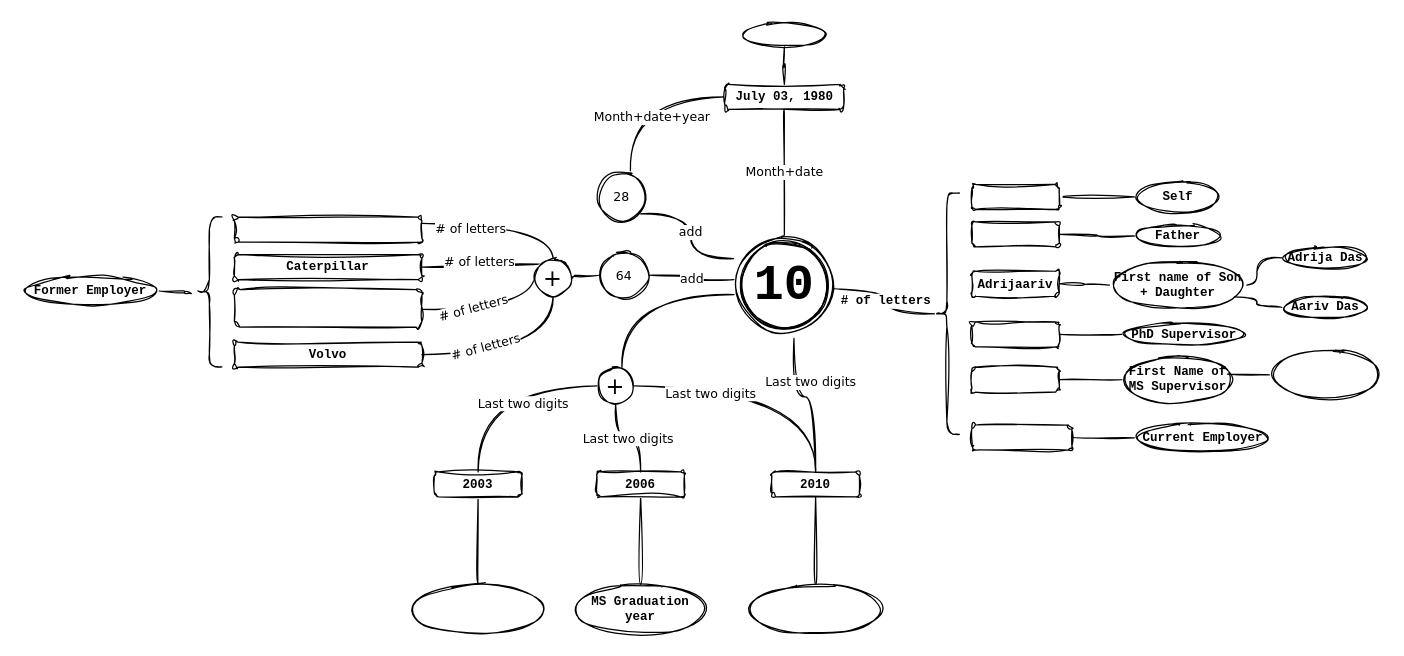
This 1404x656 diagram has some shape labels left out. Each missing label, with the box of its shape:
Abhijit Das: (971, 183, 1059, 209)
BE Graduation year: (408, 583, 547, 634)
Danfoss Power Solutions: (233, 216, 422, 242)
DOB: (739, 21, 828, 47)
Dr. Siddhartha Mukhopadhyay: (1268, 350, 1382, 398)
Frank Lewis: (971, 321, 1059, 347)
Hemanta Das: (971, 221, 1059, 247)
Omni Powertrain Technologies: (233, 288, 422, 327)
PhD Graduation year: (746, 583, 884, 634)
Siddhartha: (971, 366, 1059, 392)
Volvo Group: (971, 424, 1072, 450)
